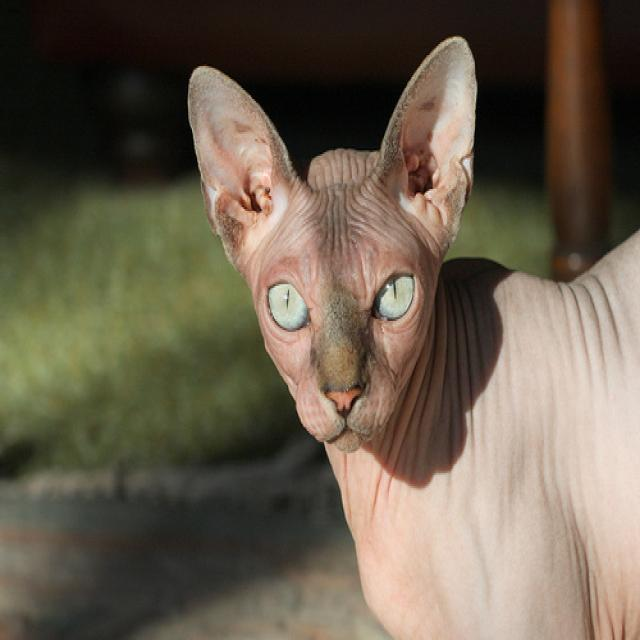cat: (185, 31, 475, 449)
